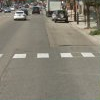crosswalk: (0, 52, 95, 57)
